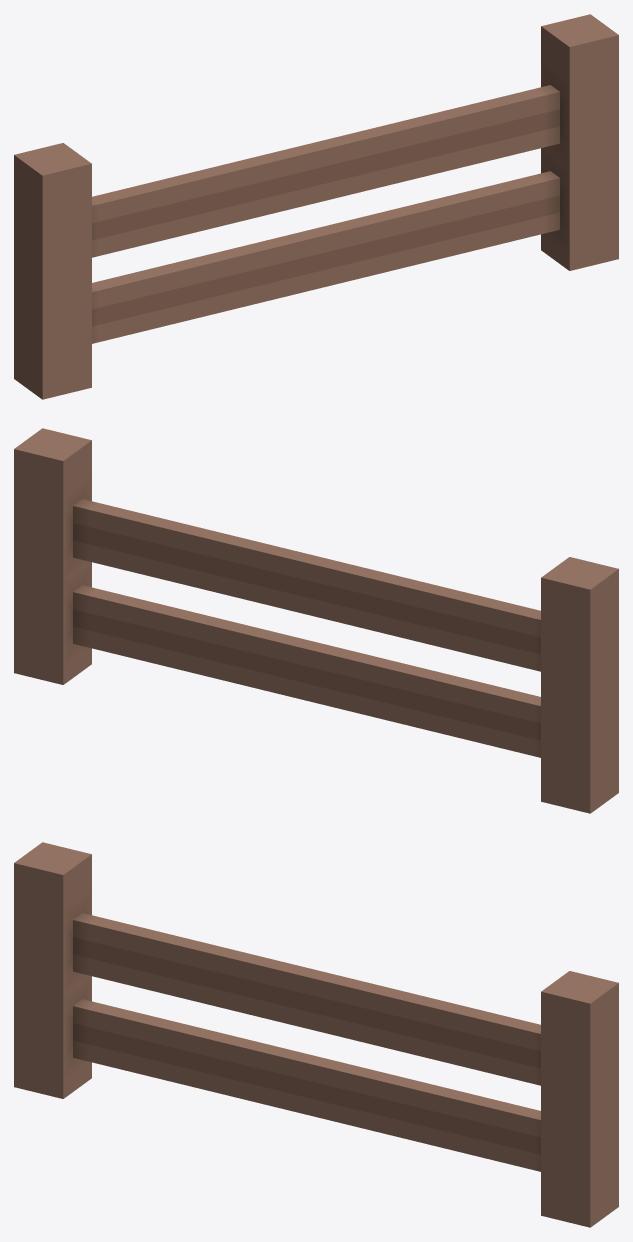
Rendered from fence.glb.
3 views of the same model, one above another, from view 1: azimuth 30°, elevation 25°; view 2: azimuth 150°, elevation 25°; view 3: azimuth 330°, elevation 25° (orthographic).
Visible parts, largest first — view 1: voxels; view 2: voxels; view 3: voxels.
Boxes of the visible parts, x1,y1,x2,y2 form: voxels: [14, 14, 618, 399]; voxels: [14, 428, 618, 813]; voxels: [14, 842, 618, 1227].
Size of the model in its own units: 1.01 by 0.3737 by 0.0862.
